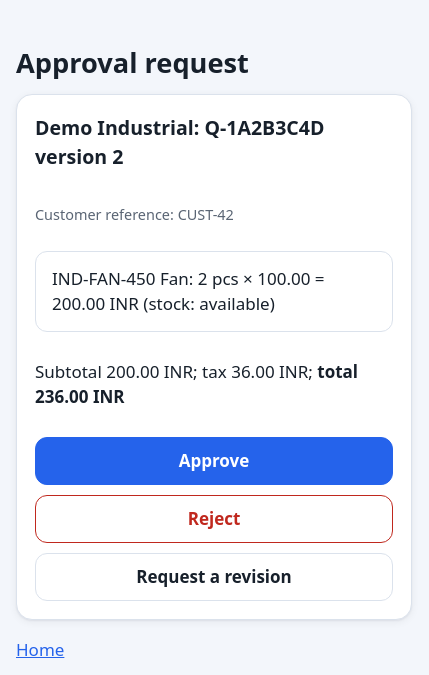
Test: ApproveLinkPage › asks for a reason before rejecting
Step 1. Click the button "Reject" → [214, 518], box [35,494,393,542]
(page scrolled)
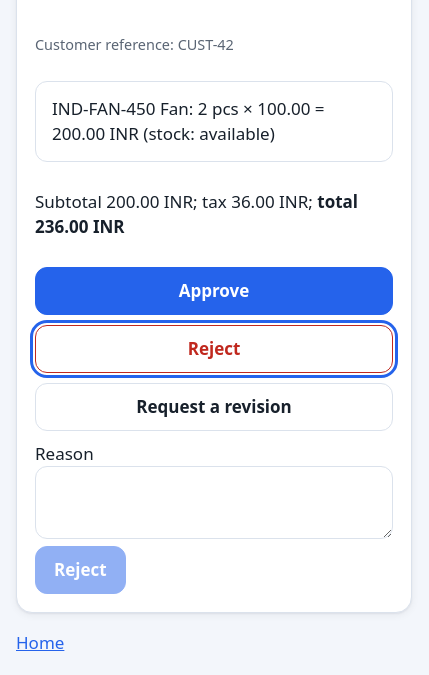
Expected: the text box labelled "Reason" is shown, [35,466,393,539]
